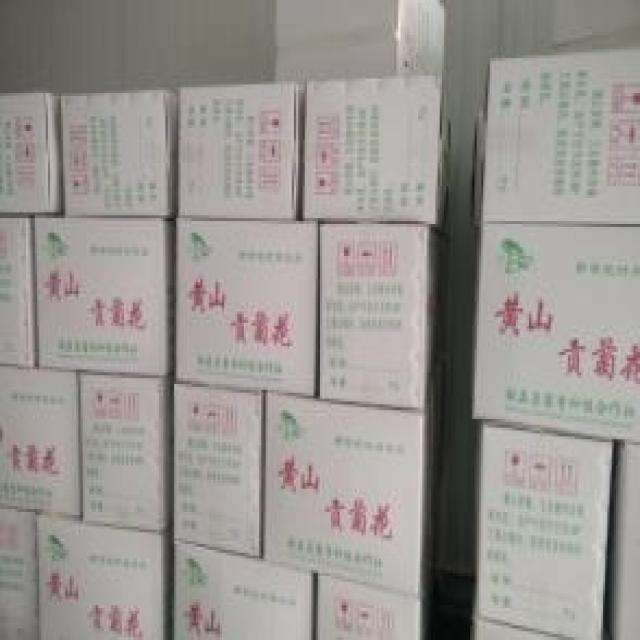box: (261, 367, 444, 593), (472, 224, 640, 442), (477, 422, 614, 640), (481, 49, 640, 224), (176, 218, 318, 396), (318, 221, 451, 410), (303, 76, 453, 233), (33, 215, 176, 378), (179, 81, 305, 218), (37, 512, 163, 640), (174, 381, 263, 559), (81, 372, 172, 532), (61, 90, 176, 215), (172, 541, 313, 640), (274, 0, 446, 79), (0, 364, 78, 518), (601, 439, 640, 640), (0, 93, 63, 215), (316, 573, 422, 640), (0, 215, 35, 367), (0, 509, 35, 640), (472, 617, 570, 640)
